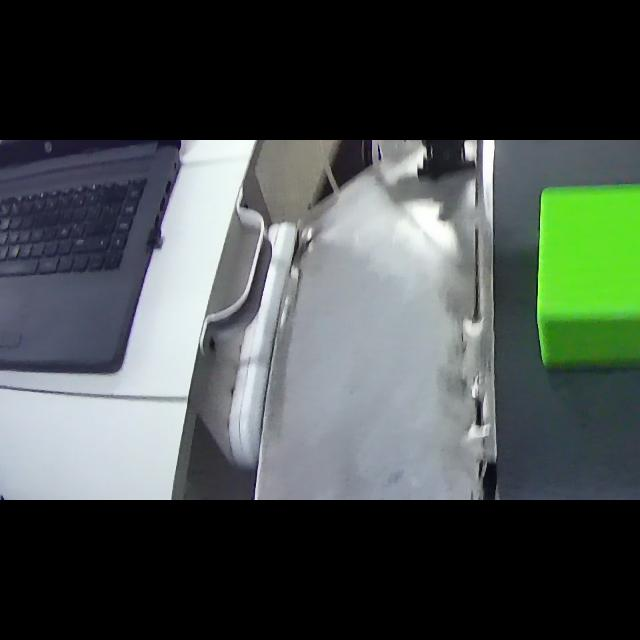greenBox: (530, 179, 640, 377)
